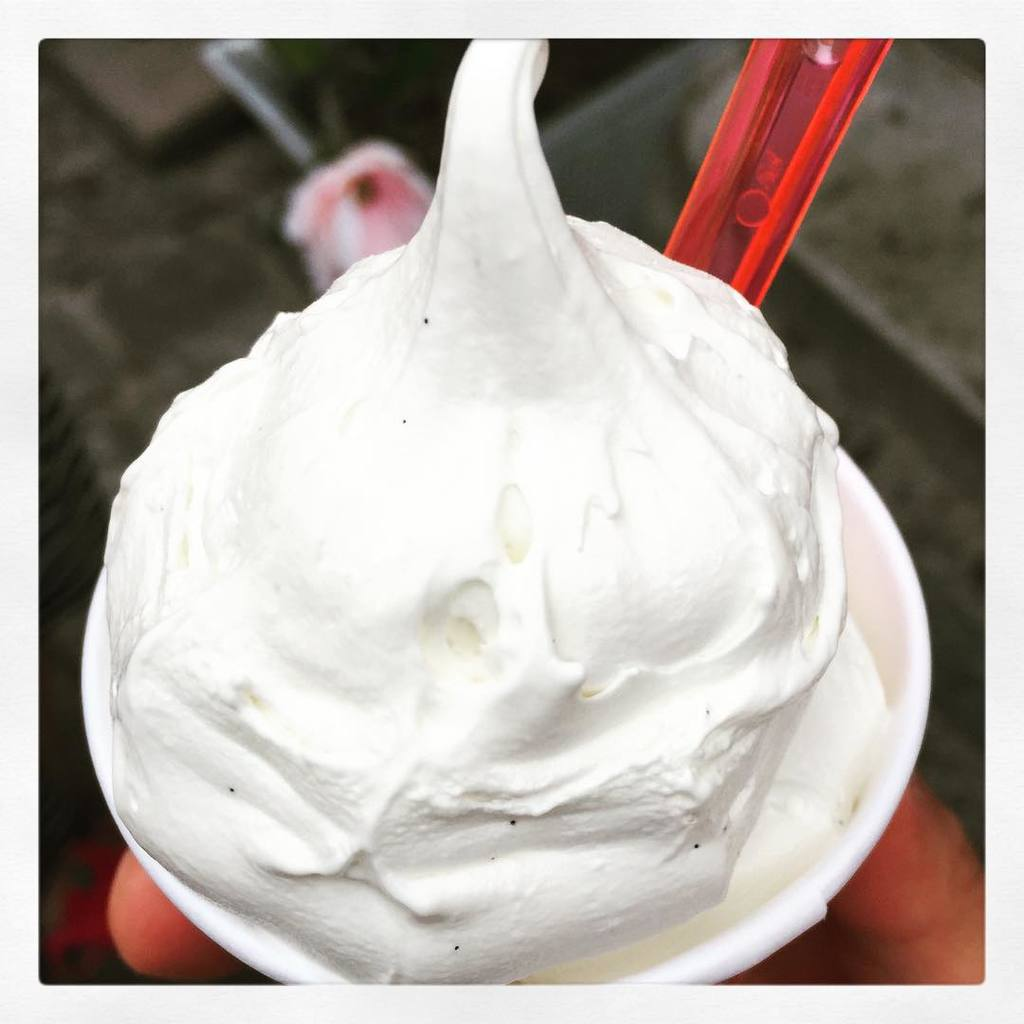person: (270, 128, 452, 310)
